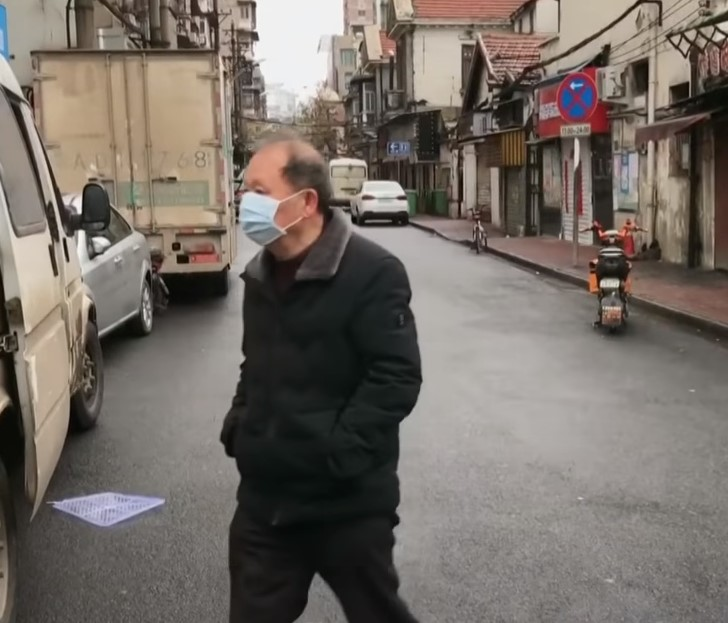face_with_mask: (239, 143, 329, 249)
